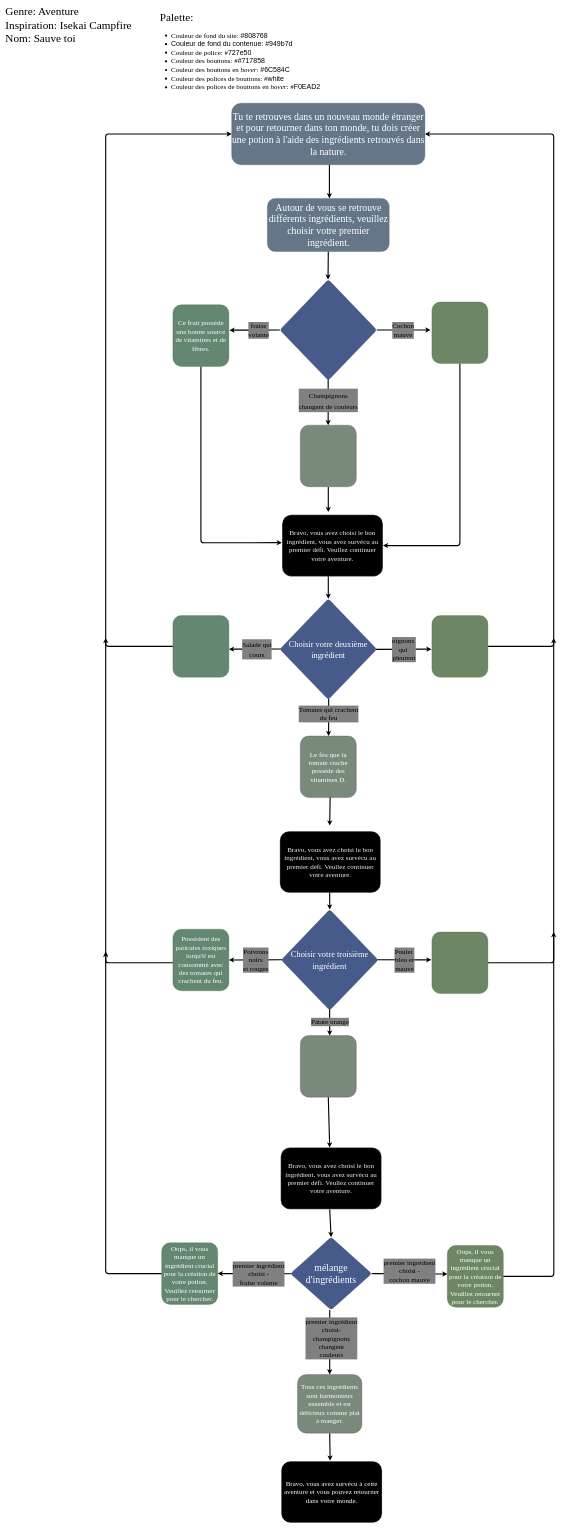
Some shapes in this 561 by 1528 pixel diagram are drawn without their labels. The shapes that lost their labels are listed below. From the top down, each one's centre as x and y in pixels, then its label:
(328,329): Choisir votre premier ingrédient
(460,333): Bonne source de protéines.
(328,456): Champignon rare qui aide à guérir les blesser.
(201,646): Vous être mort. La salade cour après vous et vous tomber dans un trou de sol.
(460,646): L' oignon possède des gouttes de larmes empoisonné.
(460,963): C'est un poulet sauvage, il attaques tout ce qu'il voit.
(328,1066): Cette patate contient beaucoup de fibres et est très délicieuse.
